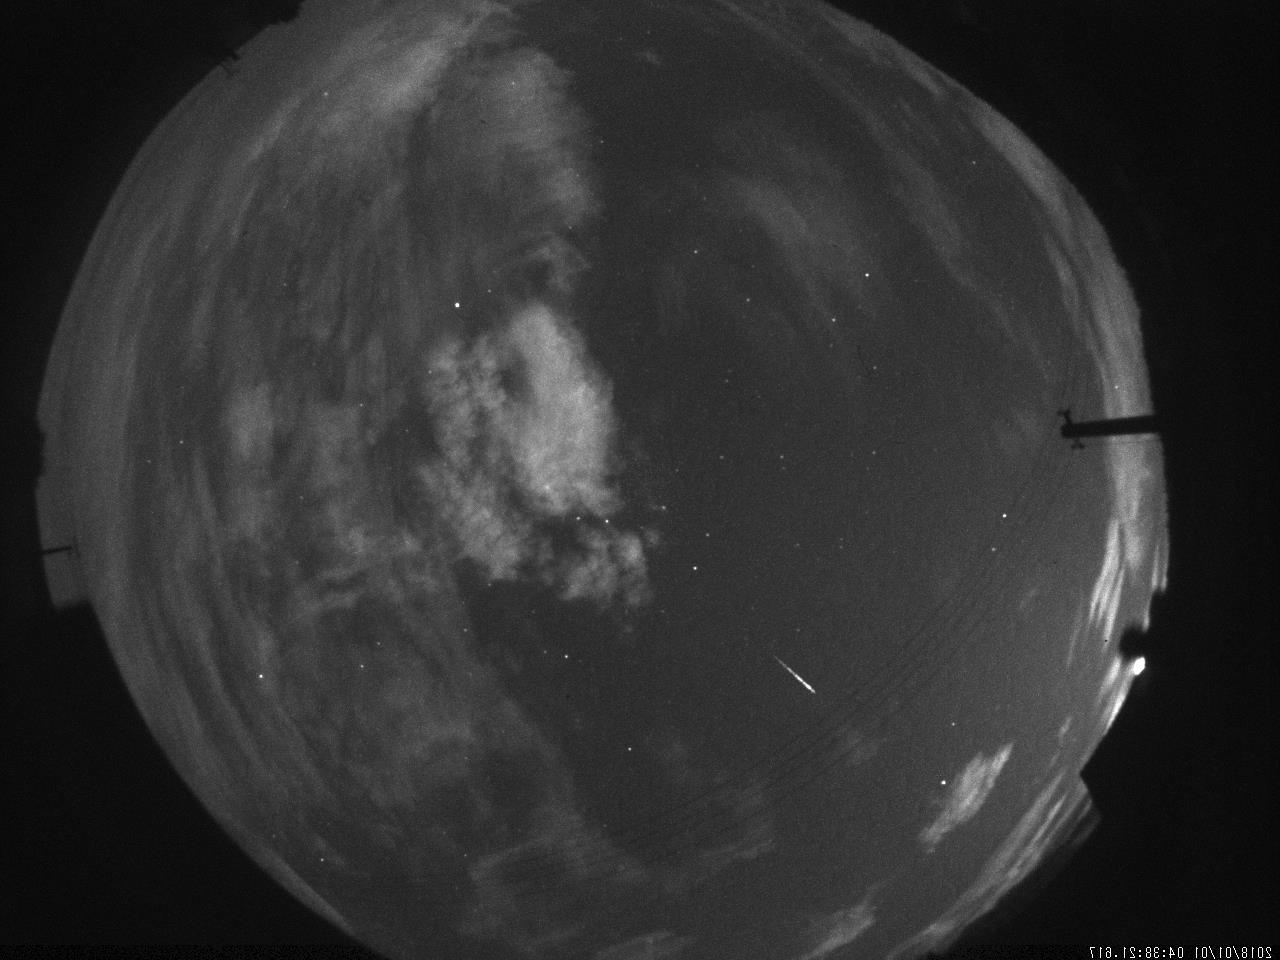meteor: (768, 647, 837, 707)
